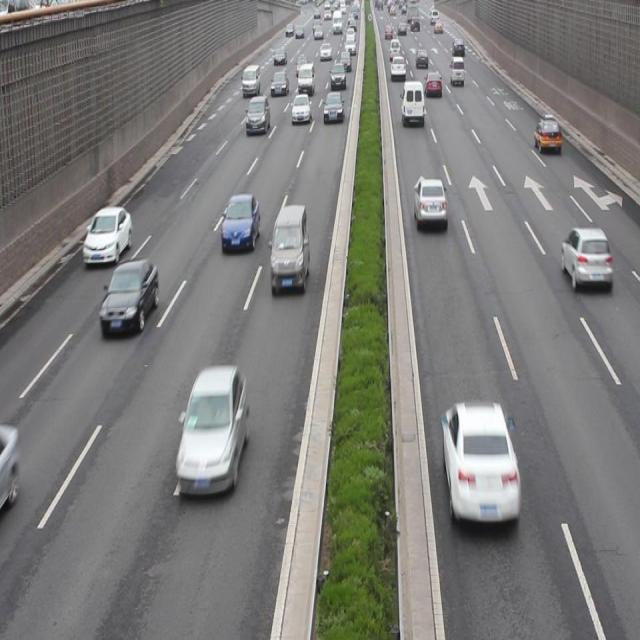car: (441, 400, 519, 530), (175, 364, 248, 499), (100, 258, 158, 338), (558, 224, 612, 293), (81, 205, 132, 267), (220, 194, 261, 253), (412, 178, 446, 232), (532, 116, 559, 154), (245, 94, 269, 132)
truck: (268, 204, 308, 295)
